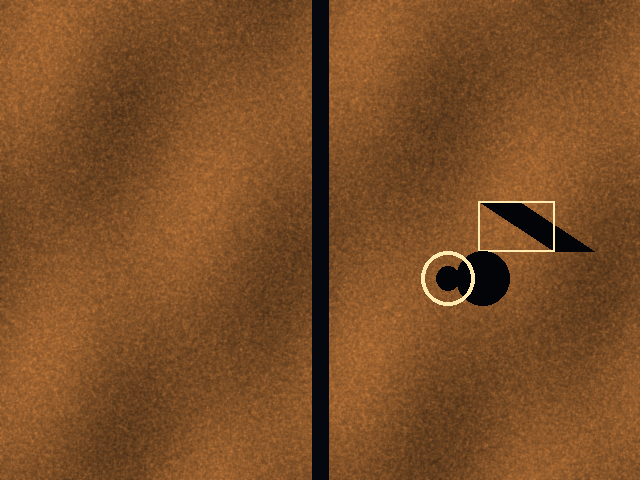Plastic Debris: (478, 201, 554, 251)
Tire: (421, 251, 474, 305)
